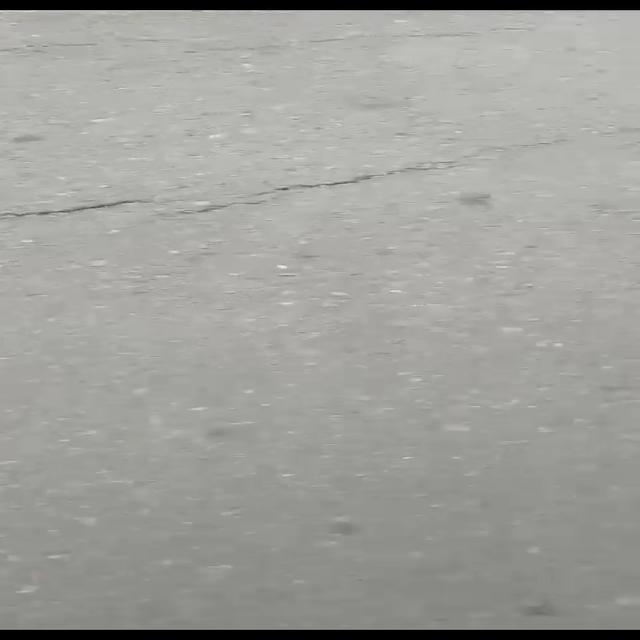Melintang: (0, 118, 640, 230)
